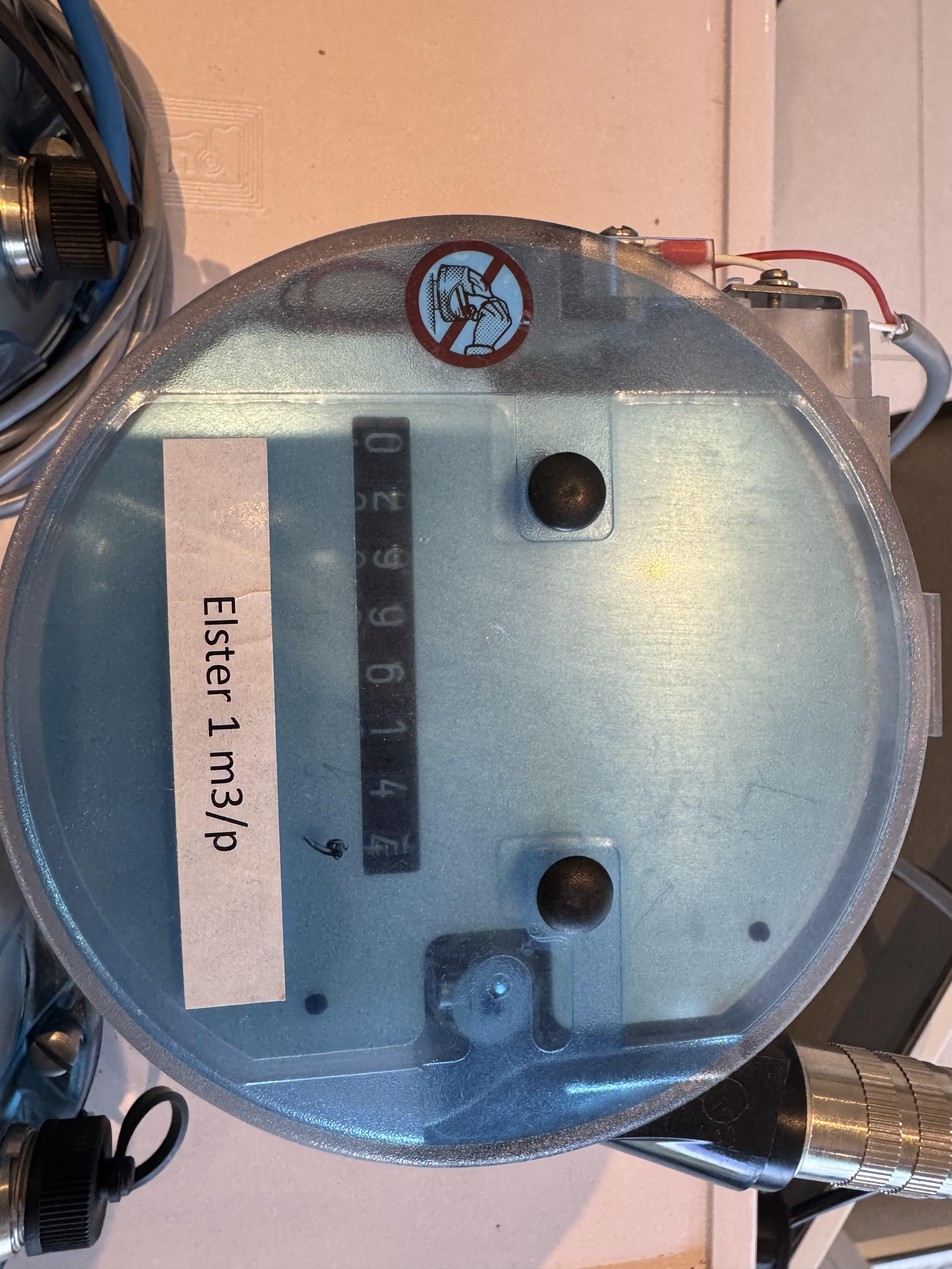analog_dial: (303, 410, 429, 887)
